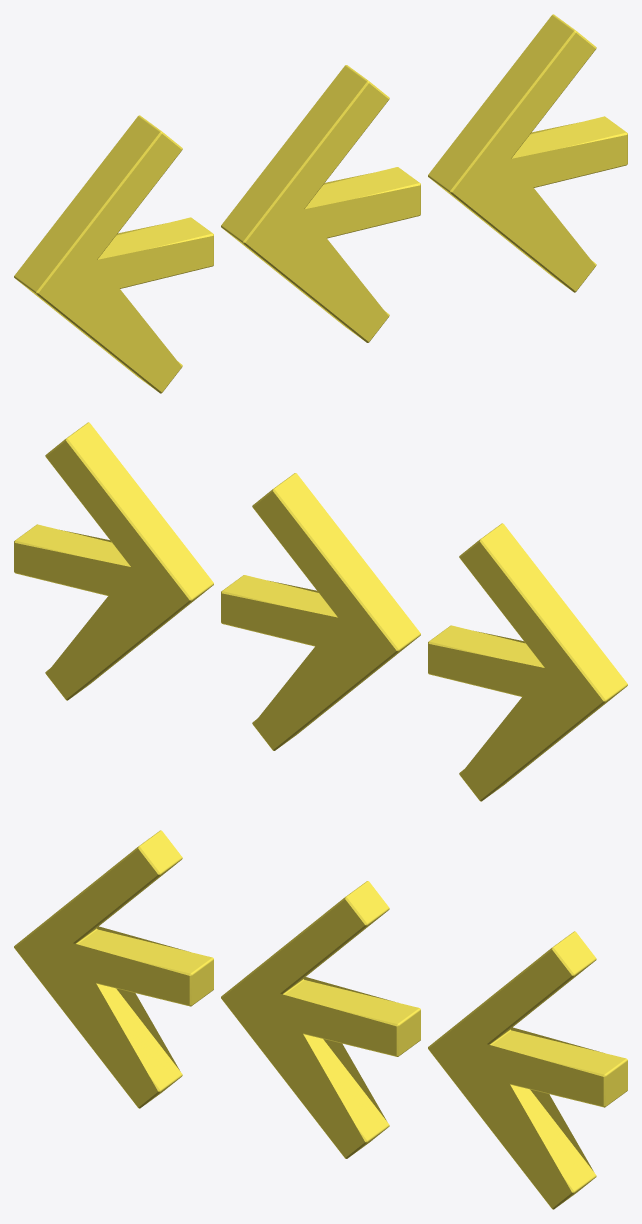
The model's file is Wayfinging_arrows_V1.fbx.
The picture shows the model from 3 angles, top to bottom: view 1: azimuth 30°, elevation 25°; view 2: azimuth 150°, elevation 25°; view 3: azimuth 330°, elevation 25°; orthographic projection.
Parts seen in each view (by area): view 1: Fill_2, Fill, Fill_3; view 2: Fill_2, Fill, Fill_3; view 3: Fill_2, Fill_3, Fill.
Boxes of the visible parts, left/top/right/bottom form: Fill_2: left=428, top=14, right=627, bottom=292; Fill: left=14, top=115, right=213, bottom=393; Fill_3: left=221, top=65, right=420, bottom=342; Fill_2: left=14, top=422, right=213, bottom=700; Fill: left=428, top=523, right=627, bottom=801; Fill_3: left=221, top=473, right=420, bottom=750; Fill_2: left=428, top=931, right=627, bottom=1209; Fill_3: left=221, top=881, right=420, bottom=1158; Fill: left=14, top=830, right=213, bottom=1108.
Bounding box in the file's own units: 572 × 242 × 39.87.
